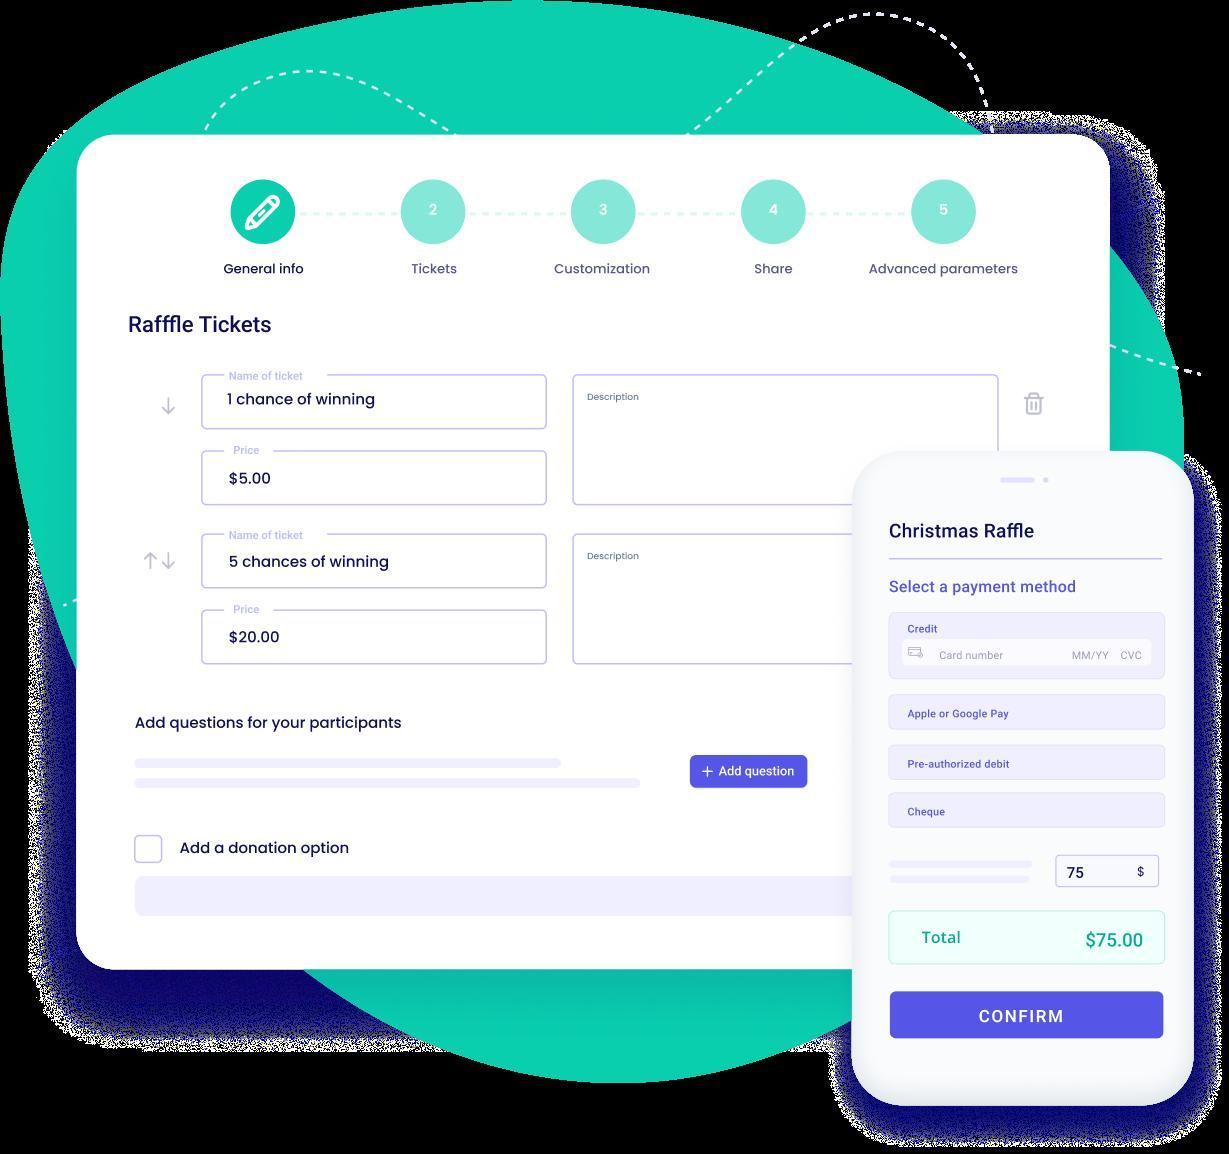button: (889, 992, 1163, 1040), (888, 740, 1167, 783), (888, 791, 1164, 832), (889, 693, 1164, 730), (691, 755, 808, 791)
checkbox: (135, 836, 163, 863)
icon: (905, 177, 987, 246), (227, 175, 304, 248), (742, 172, 808, 247), (399, 178, 472, 244), (572, 178, 637, 244), (132, 542, 185, 574), (155, 396, 184, 425), (1024, 392, 1048, 419)
input: (203, 534, 552, 594), (202, 448, 551, 504), (204, 375, 546, 432), (203, 612, 549, 664), (904, 640, 1149, 666), (1058, 859, 1160, 886)
label: (176, 835, 357, 867), (863, 253, 1027, 283), (885, 516, 1048, 546), (886, 578, 1092, 598), (121, 311, 282, 335), (545, 259, 654, 281), (221, 258, 310, 279), (739, 258, 803, 282), (226, 528, 313, 546), (396, 261, 469, 282), (226, 368, 310, 385), (579, 388, 650, 409), (578, 548, 649, 565), (901, 619, 948, 634), (230, 443, 265, 460), (232, 605, 265, 618)
